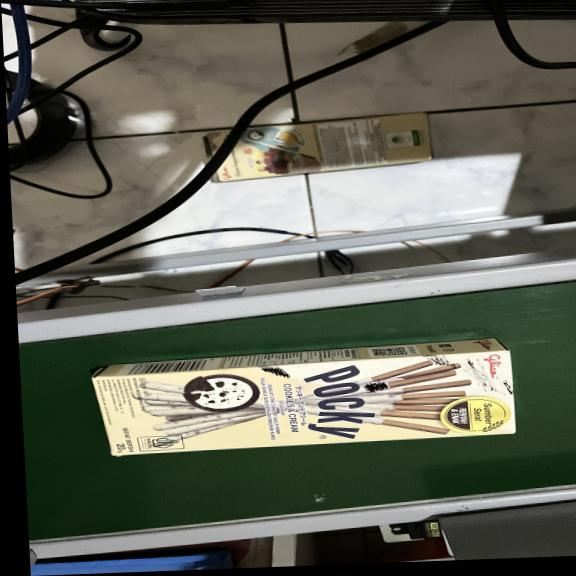Kertas: (87, 348, 516, 458)
